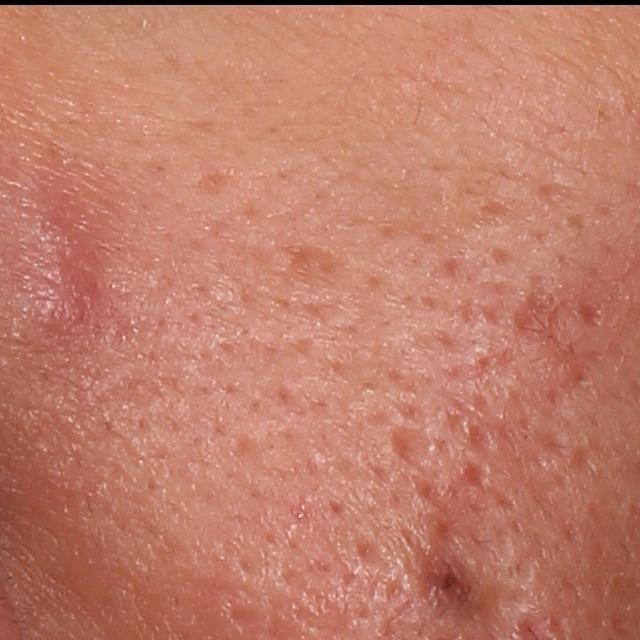atrophic_scar: (398, 482, 516, 634), (512, 277, 603, 381), (388, 425, 442, 486), (281, 241, 349, 283), (529, 176, 580, 214), (352, 537, 396, 579)
papule: (24, 193, 96, 338)
